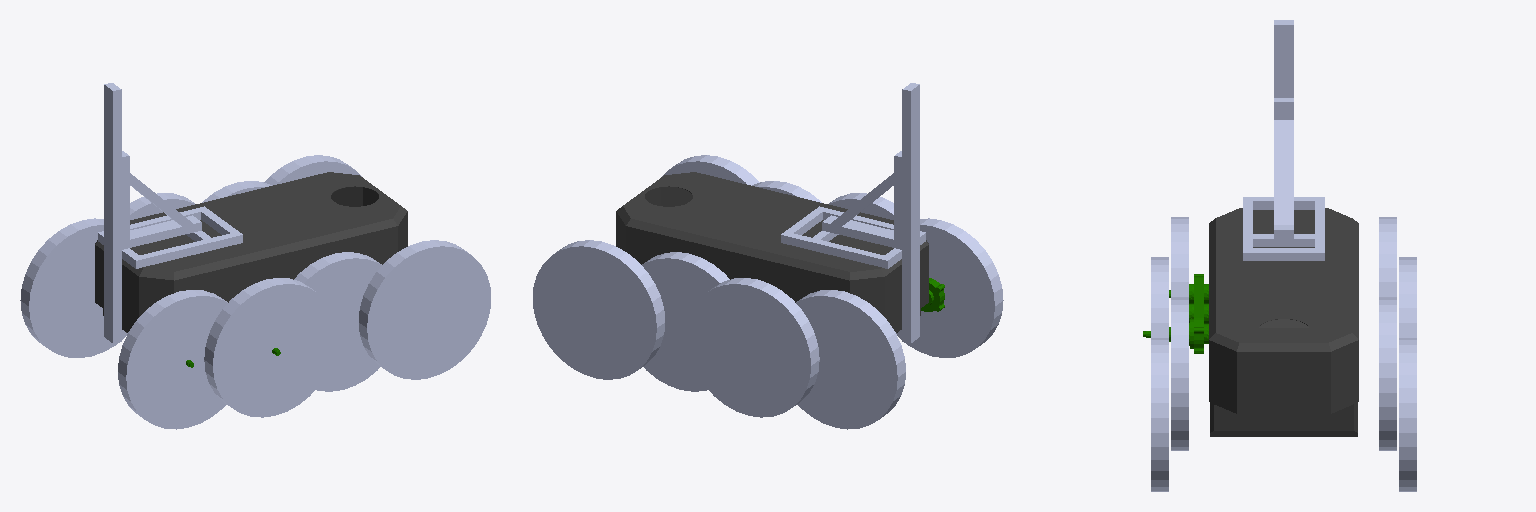
URDF robot description (asm_car_asm):
<?xml version="1.0" encoding="utf-8"?>
<!-- This URDF was automatically created by SolidWorks to URDF Exporter! Originally created by [author] ([email redacted]) 
     Commit Version: 1.5.1-0-g916b5db  Build Version: 1.5.7152.31018
     For more information, please see http://wiki.ros.org/sw_urdf_exporter -->
<robot
  name="asm_car_asm">
    <link name="base_footprint">
        <visual>
            <geometry>
                    <box size="0.001 0.001 0.001"/>
                </geometry>
            <origin rpy="0 0 0" xyz="0 0 0"/>
        </visual>
    </link>
    <joint name="base_footprint_joint" type="fixed">
        <origin xyz="0 0 0" />
        <parent link="base_footprint" />
        <child link="base_link" />
    </joint>
  <link
    name="base_link">
    <inertial>
      <origin
        xyz="1.049196782881E-15 -1.51734255681251E-15 -0.111330753346375"
        rpy="0 0 0" />
      <mass
        value="0.826691190957249" />
      <inertia
        ixx="0.0249975874157002"
        ixy="-7.52271136280225E-17"
        ixz="2.82864435855665E-17"
        iyy="0.0768556941113596"
        iyz="6.0659568181077E-17"
        izz="0.0969436158700248" />
    </inertial>
    <visual>
      <origin
        xyz="0 0 0"
        rpy="0 0 0" />
      <geometry>
        <mesh
          filename="package://asm_car_asm/meshes/base_link.STL" />
      </geometry>
      <material
        name="">
        <color
          rgba="0.313725490196078 0.313725490196078 0.313725490196078 1" />
      </material>
    </visual>
    <collision>
      <origin
        xyz="0 0 0"
        rpy="0 0 0" />
      <geometry>
        <mesh
          filename="package://asm_car_asm/meshes/base_link.STL" />
      </geometry>
    </collision>
  </link>
  <link
    name="body">
    <inertial>
      <origin
        xyz="0.00748877624058336 -1.40564993411333E-15 0.126875504146603"
        rpy="0 0 0" />
      <mass
        value="1.00302107294553" />
      <inertia
        ixx="0.0353961113249428"
        ixy="-5.66459128650649E-17"
        ixz="-0.000522977464601806"
        iyy="0.110631619010978"
        iyz="1.21496766163631E-17"
        izz="0.134718731941543" />
    </inertial>
    <visual>
      <origin
        xyz="0 0 0"
        rpy="0 0 0" />
      <geometry>
        <mesh
          filename="package://asm_car_asm/meshes/body.STL" />
      </geometry>
      <material
        name="">
        <color
          rgba="0.313725490196078 0.313725490196078 0.313725490196078 1" />
      </material>
    </visual>
    <collision>
      <origin
        xyz="0 0 0"
        rpy="0 0 0" />
      <geometry>
        <mesh
          filename="package://asm_car_asm/meshes/body.STL" />
      </geometry>
    </collision>
  </link>
  <joint
    name="body_joint"
    type="fixed">
    <origin
      xyz="0 0 0"
      rpy="0 0 3.1416" />
    <parent
      link="base_link" />
    <child
      link="body" />
    <axis
      xyz="0 0 0" />
  </joint>
  <link
    name="rack_Link">
    <inertial>
      <origin
        xyz="-1.79969614716557E-11 0.140184473428739 0.1757564007541"
        rpy="0 0 0" />
      <mass
        value="6.56017677903339" />
      <inertia
        ixx="0.170168272052352"
        ixy="-2.67547151839763E-12"
        ixz="-5.81828697036444E-12"
        iyy="0.147109365957286"
        iyz="0.00776074128079464"
        izz="0.0522121702201837" />
    </inertial>
    <visual>
      <origin
        xyz="0 0 0"
        rpy="0 0 0" />
      <geometry>
        <mesh
          filename="package://asm_car_asm/meshes/rack_Link.STL" />
      </geometry>
      <material
        name="">
        <color
          rgba="0.792156862745098 0.819607843137255 0.933333333333333 1" />
      </material>
    </visual>
    <collision>
      <origin
        xyz="0 0 0"
        rpy="0 0 0" />
      <geometry>
        <mesh
          filename="package://asm_car_asm/meshes/rack_Link.STL" />
      </geometry>
    </collision>
  </link>
  <joint
    name="rack_joint"
    type="fixed">
    <origin
      xyz="0.502 0 0.226"
      rpy="0 0 1.5708" />
    <parent
      link="body" />
    <child
      link="rack_Link" />
    <axis
      xyz="0 0 0" />
  </joint>
  <link
    name="FrontLeft_Link">
    <inertial>
      <origin
        xyz="-0.0162620694026895 0 -0.0208244147590206"
        rpy="0 0 0" />
      <mass
        value="1.79218615150526" />
      <inertia
        ixx="0.00265370284480665"
        ixy="-1.82350288041465E-19"
        ixz="-0.00144065197407825"
        iyy="0.0257376544776968"
        iyz="-9.25715958430322E-21"
        izz="0.0257584221294946" />
    </inertial>
    <visual>
      <origin
        xyz="0 0 0"
        rpy="0 0 0" />
      <geometry>
        <mesh
          filename="package://asm_car_asm/meshes/FrontLeft_Link.STL" />
      </geometry>
      <material
        name="">
        <color
          rgba="0.149019607843137 0.517647058823529 0 1" />
      </material>
    </visual>
    <collision>
      <origin
        xyz="0 0 0"
        rpy="0 0 0" />
      <geometry>
        <mesh
          filename="package://asm_car_asm/meshes/FrontLeft_Link.STL" />
      </geometry>
    </collision>
  </link>
  <joint
    name="FrontLeftJoint"
    type="revolute">
    <origin
      xyz="0.288 0.245 -0.066"
      rpy="-1.5708 0 3.1416" />
    <parent
      link="base_link" />
    <child
      link="FrontLeft_Link" />
    <axis
      xyz="0 0 1" />
	  <limit lower="0.0"
         upper="1.0"
         effort="10.0"
         velocity="5.0" />
<dynamics damping="5.0" friction="1.0"/>
  <!-- Soft limits -->
  <safety_controller k_position="0.8"
                     k_velocity="10"
                     soft_lower_limit="0.1"
                     soft_upper_limit="0.9" />
  </joint>
  <link
    name="FrontLeftWheel1">
    <inertial>
      <origin
        xyz="1.81663042386759E-08 4.16008616443975E-11 -5.16786613502518E-12"
        rpy="0 0 0" />
      <mass
        value="2.99405359774556" />
      <inertia
        ixx="0.125658758012625"
        ixy="-2.01511313553579E-10"
        ixz="1.2530514361123E-11"
        iyy="0.0635377250884112"
        iyz="2.93950370238922E-10"
        izz="0.0635377250888026" />
    </inertial>
    <visual>
      <origin
        xyz="0 0 0"
        rpy="0 1.5708 0" />
      <geometry>
	<cylinder length="0.055" radius="0.2325" />
      </geometry>
      <material
        name="">
        <color
          rgba="0.792156862745098 0.819607843137255 0.933333333333333 1" />
      </material>
    </visual>
    <collision>
     <origin
        xyz="0 0 0"
        rpy="0 1.5708 0" />
      <geometry>
	<cylinder length="0.055" radius="0.2325" />
      </geometry>
    </collision>
  </link>
  <joint
    name="FrontLeftJoint1"
    type="continuous">
    <origin
      xyz="-0.144 0 -0.1305"
      rpy="3.1416 1.5708 0" />
    <parent
      link="FrontLeft_Link" />
    <child
      link="FrontLeftWheel1" />
    <axis
      xyz="1 0 0" />
  </joint>
  <link
    name="FrontLeftWheel2">
    <inertial>
      <origin
        xyz="1.81663042386759E-08 4.1601042055639E-11 -5.16764409042025E-12"
        rpy="0 0 0" />
      <mass
        value="2.99405359774556" />
      <inertia
        ixx="0.125658758012625"
        ixy="-2.01511310493956E-10"
        ixz="1.25305206703153E-11"
        iyy="0.0635377250884112"
        iyz="2.9395036587968E-10"
        izz="0.0635377250888023" />
    </inertial>
    <visual>
      <origin
        xyz="0 0 0"
        rpy="0 1.5708 0" />
      <geometry>
	<cylinder length="0.055" radius="0.2325" />
      </geometry>
      <material
        name="">
        <color
          rgba="0.792156862745098 0.819607843137255 0.933333333333333 1" />
      </material>
    </visual>
    <collision>
      <origin
        xyz="0 0 0"
        rpy="0 1.5708 0" />
      <geometry>
	<cylinder length="0.055" radius="0.2325" />
      </geometry>
    </collision>
  </link>
  <joint
    name="FrontLeftJoint2"
    type="continuous">
    <origin
      xyz="0.144 0 -0.0695"
      rpy="3.1416 1.5708 0" />
    <parent
      link="FrontLeft_Link" />
    <child
      link="FrontLeftWheel2" />
    <axis
      xyz="1 0 0" />
  </joint>
  <link
    name="FrontRightLink">
    <inertial>
      <origin
        xyz="-0.0162620694026895 0 -0.0208244147590206"
        rpy="0 0 0" />
      <mass
        value="1.79218615150526" />
      <inertia
        ixx="0.00265370284480666"
        ixy="-3.74712782633937E-19"
        ixz="-0.00144065197407825"
        iyy="0.0257376544776969"
        iyz="3.55274614255389E-19"
        izz="0.0257584221294946" />
    </inertial>
    <visual>
      <origin
        xyz="0 0 0"
        rpy="0 0 0" />
      <geometry>
        <mesh
          filename="package://asm_car_asm/meshes/FrontRightLink.STL" />
      </geometry>
      <material
        name="">
        <color
          rgba="0.149019607843137 0.517647058823529 0 1" />
      </material>
    </visual>
    <collision>
      <origin
        xyz="0 0 0"
        rpy="0 0 0" />
      <geometry>
        <mesh
          filename="package://asm_car_asm/meshes/FrontRightLink.STL" />
      </geometry>
    </collision>
  </link>
  <joint
    name="FrontRightJoint"
    type="revolute">
    <origin
      xyz="0.288 -0.245 -0.066"
      rpy="1.5707963267949 0 3.14159265358979" />
    <parent
      link="base_link" />
    <child
      link="FrontRightLink" />
        <axis
      xyz="0 0 1" />
	  <limit lower="0.0"
         upper="1.0"
         effort="10.0"
         velocity="5.0" />
<dynamics damping="5.0" friction="1.0"/>
  <!-- Soft limits -->
  <safety_controller k_position="0.8"
                     k_velocity="10"
                     soft_lower_limit="0.1"
                     soft_upper_limit="0.9" />
  </joint>
  <link
    name="FrontRightWheel1">
    <inertial>
      <origin
        xyz="1.81663041831648E-08 -4.16008616443975E-11 5.16786613502518E-12"
        rpy="0 0 0" />
      <mass
        value="2.99405359774556" />
      <inertia
        ixx="0.125658758012625"
        ixy="2.01511299412951E-10"
        ixz="-1.25305170682696E-11"
        iyy="0.0635377250884111"
        iyz="2.9395040736196E-10"
        izz="0.0635377250888023" />
    </inertial>
    <visual>
      <origin
        xyz="0 0 0"
        rpy="0 1.5708 0" />
      <geometry>
	<cylinder length="0.055" radius="0.2325" />
      </geometry>
      <material
        name="">
        <color
          rgba="0.792156862745098 0.819607843137255 0.933333333333333 1" />
      </material>
    </visual>
    <collision>
      <origin
        xyz="0 0 0"
        rpy="0 1.5708 0" />
      <geometry>
	<cylinder length="0.055" radius="0.2325" />
      </geometry>
    </collision>
  </link>
  <joint
    name="FrontRightJoint1"
    type="continuous">
    <origin
      xyz="-0.144 0 -0.1305"
      rpy="0 1.5708 0" />
    <parent
      link="FrontRightLink" />
    <child
      link="FrontRightWheel1" />
    <axis
      xyz="1 0 0" />
  </joint>
  <link
    name="FrontRightWheel2">
    <inertial>
      <origin
        xyz="1.81663042941871E-08 -4.16010004222755E-11 5.16781062387395E-12"
        rpy="0 0 0" />
      <mass
        value="2.99405359774555" />
      <inertia
        ixx="0.125658758012625"
        ixy="2.01511305900651E-10"
        ixz="-1.25305184086115E-11"
        iyy="0.0635377250884111"
        iyz="2.93950405009459E-10"
        izz="0.0635377250888022" />
    </inertial>
    <visual>
      <origin
        xyz="0 0 0"
        rpy="0 1.5708 0" />
      <geometry>
	<cylinder length="0.055" radius="0.2325" />
      </geometry>
      <material
        name="">
        <color
          rgba="0.792156862745098 0.819607843137255 0.933333333333333 1" />
      </material>
    </visual>
    <collision>
      <origin
        xyz="0 0 0"
        rpy="0 1.5708 0" />
      <geometry>
	<cylinder length="0.055" radius="0.2325" />
      </geometry>
    </collision>
  </link>
  <joint
    name="FrontRightJoint2"
    type="continuous">
    <origin
      xyz="0.144 0 -0.0695"
      rpy="0 1.5708 0" />
    <parent
      link="FrontRightLink" />
    <child
      link="FrontRightWheel2" />
    <axis
      xyz="1 0 0" />
  </joint>
  <link
    name="BackRightLink">
    <inertial>
      <origin
        xyz="-0.0162620694026895 0 -0.0208244147590207"
        rpy="0 0 0" />
      <mass
        value="1.79218615150526" />
      <inertia
        ixx="0.00265370284480667"
        ixy="-5.70386703967181E-19"
        ixz="-0.00144065197407825"
        iyy="0.0257376544776968"
        iyz="1.19797750715368E-19"
        izz="0.0257584221294946" />
    </inertial>
    <visual>
      <origin
        xyz="0 0 0"
        rpy="0 0 0" />
      <geometry>
        <mesh
          filename="package://asm_car_asm/meshes/BackRightLink.STL" />
      </geometry>
      <material
        name="">
        <color
          rgba="0.149019607843137 0.517647058823529 0 1" />
      </material>
    </visual>
    <collision>
      <origin
        xyz="0 0 0"
        rpy="0 0 0" />
      <geometry>
        <mesh
          filename="package://asm_car_asm/meshes/BackRightLink.STL" />
      </geometry>
    </collision>
  </link>
  <joint
    name="BackRightJoint"
    type="revolute">
    <origin
      xyz="-0.288 -0.245 -0.066"
      rpy="1.5707963267949 0 3.14159265358979" />
    <parent
      link="base_link" />
    <child
      link="BackRightLink" />
        <axis
      xyz="0 0 1" />
	  <limit lower="0.0"
         upper="1.0"
         effort="10.0"
         velocity="5.0" />
<dynamics damping="5.0" friction="1.0"/>
  <!-- Soft limits -->
  <safety_controller k_position="0.8"
                     k_velocity="10"
                     soft_lower_limit="0.1"
                     soft_upper_limit="0.9" />
  </joint>
  <link
    name="BackRightWheel1">
    <inertial>
      <origin
        xyz="1.81663042386759E-08 -4.16009726666999E-11 5.16769960157148E-12"
        rpy="0 0 0" />
      <mass
        value="2.99405359774556" />
      <inertia
        ixx="0.125658758012625"
        ixy="2.0151130103845E-10"
        ixz="-1.25305176970732E-11"
        iyy="0.0635377250884111"
        iyz="2.93950427391312E-10"
        izz="0.0635377250888023" />
    </inertial>
    <visual>
      <origin
        xyz="0 0 0"
        rpy="0 1.5708 0" />
      <geometry>
	<cylinder length="0.055" radius="0.2325" />
      </geometry>
      <material
        name="">
        <color
          rgba="0.792156862745098 0.819607843137255 0.933333333333333 1" />
      </material>
    </visual>
    <collision>
      <origin
        xyz="0 0 0"
        rpy="0 1.5708 0" />
      <geometry>
	<cylinder length="0.055" radius="0.2325" />
      </geometry>
    </collision>
  </link>
  <joint
    name="BackRightJoint1"
    type="continuous">
    <origin
      xyz="0.144 0 -0.0695"
      rpy="0 1.5708 0" />
    <parent
      link="BackRightLink" />
    <child
      link="BackRightWheel1" />
    <axis
      xyz="1 0 0" />
  </joint>
  <link
    name="BackRightWheel2">
    <inertial>
      <origin
        xyz="1.81663041831648E-08 -4.16009449111243E-11 5.16756082369341E-12"
        rpy="0 0 0" />
      <mass
        value="2.99405359774556" />
      <inertia
        ixx="0.125658758012625"
        ixy="2.01511303939349E-10"
        ixz="-1.25305217685236E-11"
        iyy="0.0635377250884112"
        iyz="2.93950344762586E-10"
        izz="0.0635377250888024" />
    </inertial>
    <visual>
      <origin
        xyz="0 0 0"
        rpy="0 1.5708 0" />
      <geometry>
	<cylinder length="0.055" radius="0.2325" />
      </geometry>
      <material
        name="">
        <color
          rgba="0.792156862745098 0.819607843137255 0.933333333333333 1" />
      </material>
    </visual>
    <collision>
      <origin
        xyz="0 0 0"
        rpy="0 1.5708 0" />
      <geometry>
	<cylinder length="0.055" radius="0.2325" />
      </geometry>
    </collision>
  </link>
  <joint
    name="BackRightJoint2"
    type="continuous">
    <origin
      xyz="-0.144 0 -0.1305"
      rpy="0 1.5707963267949 0" />
    <parent
      link="BackRightLink" />
    <child
      link="BackRightWheel2" />
    <axis
      xyz="1 0 0" />
  </joint>
  <link
    name="BackLeftLink">
    <inertial>
      <origin
        xyz="-0.0162620694026895 0 -0.0208244147590206"
        rpy="0 0 0" />
      <mass
        value="1.79218615150526" />
      <inertia
        ixx="0.00265370284480667"
        ixy="-3.67474297666951E-19"
        ixz="-0.00144065197407825"
        iyy="0.0257376544776968"
        iyz="-4.77872464621038E-20"
        izz="0.0257584221294946" />
    </inertial>
    <visual>
      <origin
        xyz="0 0 0"
        rpy="0 0 0" />
      <geometry>
        <mesh
          filename="package://asm_car_asm/meshes/BackLeftLink.STL" />
      </geometry>
      <material
        name="">
        <color
          rgba="0.149019607843137 0.517647058823529 0 1" />
      </material>
    </visual>
    <collision>
      <origin
        xyz="0 0 0"
        rpy="0 0 0" />
      <geometry>
        <mesh
          filename="package://asm_car_asm/meshes/BackLeftLink.STL" />
      </geometry>
    </collision>
  </link>
  <joint
    name="BackLeftJoint"
    type="revolute">
    <origin
      xyz="-0.288 0.245 -0.066"
      rpy="-1.5707963267949 0 3.14159265358979" />
    <parent
      link="base_link" />
    <child
      link="BackLeftLink" />
        <axis
      xyz="0 0 1" />
	  <limit lower="0.0"
         upper="1.0"
         effort="10.0"
         velocity="5.0" />
<dynamics damping="5.0" friction="1.0"/>
  <!-- Soft limits -->
  <safety_controller k_position="0.8"
                     k_velocity="10"
                     soft_lower_limit="0.1"
                     soft_upper_limit="0.9" />
  </joint>
  <link
    name="BackLeftWheel1">
    <inertial>
      <origin
        xyz="1.81663042386759E-08 4.16006534775804E-11 -5.16764409042025E-12"
        rpy="0 0 0" />
      <mass
        value="2.99405359774556" />
      <inertia
        ixx="0.125658758012625"
        ixy="-2.01511301505588E-10"
        ixz="1.25305158858522E-11"
        iyy="0.0635377250884111"
        iyz="2.93950405965679E-10"
        izz="0.0635377250888024" />
    </inertial>
    <visual>
      <origin
        xyz="0 0 0"
        rpy="0 1.5708 0" />
      <geometry>
	<cylinder length="0.055" radius="0.2325" />
      </geometry>
      <material
        name="">
        <color
          rgba="0.792156862745098 0.819607843137255 0.933333333333333 1" />
      </material>
    </visual>
    <collision>
      <origin
        xyz="0 0 0"
        rpy="0 1.5708 0" />
      <geometry>
	<cylinder length="0.055" radius="0.2325" />
      </geometry>
    </collision>
  </link>
  <joint
    name="BackLeftJoint1"
    type="continuous">
    <origin
      xyz="0.144 0 -0.0695"
      rpy="3.1416 1.5708 0" />
    <parent
      link="BackLeftLink" />
    <child
      link="BackLeftWheel1" />
    <axis
      xyz="1 0 0" />
  </joint>
  <link
    name="BackLeftWheel2">
    <inertial>
      <origin
        xyz="1.81663042386759E-08 4.16010698112146E-11 -5.16789389060079E-12"
        rpy="0 0 0" />
      <mass
        value="2.99405359774556" />
      <inertia
        ixx="0.125658758012626"
        ixy="-2.01511304261986E-10"
        ixz="1.25305150788844E-11"
        iyy="0.0635377250884114"
        iyz="2.93950421854165E-10"
        izz="0.0635377250888025" />
    </inertial>
    <visual>
     <origin
        xyz="0 0 0"
        rpy="0 1.5708 0" />
      <geometry>
	<cylinder length="0.055" radius="0.2325" />
      </geometry>
      <material
        name="">
        <color
          rgba="0.792156862745098 0.819607843137255 0.933333333333333 1" />
      </material>
    </visual>
    <collision>
      <origin
        xyz="0 0 0"
        rpy="0 1.5708 0" />
      <geometry>
	<cylinder length="0.055" radius="0.2325" />
      </geometry>
    </collision>
  </link>
  <joint
    name="BackLeftJoint2"
    type="continuous">
    <origin
      xyz="-0.144 0 -0.1305"
      rpy="3.14159265358979 1.5707963267949 0" />
    <parent
      link="BackLeftLink" />
    <child
      link="BackLeftWheel2" />
    <axis
      xyz="1 0 0" />
  </joint>
</robot>

--- What the picture shows (computed from the rendered views, not written in the file) ---
The picture shows the robot from 3 angles, left to right: view 1: azimuth 30°, elevation 25°; view 2: azimuth 150°, elevation 25°; view 3: azimuth 270°, elevation 25°; orthographic projection.
Model asm_car_asm with 16 links and 15 joints (4 revolute, 8 continuous, 3 fixed), rooted at base_footprint, posed every joint at zero.
Visible links, largest first — view 1: body, FrontRightWheel1, BackRightWheel2, BackRightWheel1, rack_Link, BackLeftWheel1, FrontRightWheel2, FrontLeftWheel1, BackLeftWheel2, FrontLeftWheel2; view 2: body, BackLeftWheel2, FrontLeftWheel1, BackLeftWheel1, rack_Link, BackRightWheel1, FrontLeftWheel2, FrontRightWheel1, BackRightWheel2, FrontRightWheel2; view 3: body, rack_Link, base_link, FrontLeftWheel1, FrontRightWheel1, FrontLeftWheel2, FrontRightWheel2, BackRightLink, BackRightWheel1, BackRightWheel2, BackLeftWheel1, BackLeftWheel2.
Link boxes in pixels (<box>): body: <box>95,172,407,327</box>; FrontRightWheel1: <box>359,240,490,379</box>; BackRightWheel2: <box>204,278,336,417</box>; BackRightWheel1: <box>118,290,227,429</box>; rack_Link: <box>98,83,242,343</box>; BackLeftWheel1: <box>20,218,127,357</box>; FrontRightWheel2: <box>294,252,381,391</box>; FrontLeftWheel1: <box>264,155,361,185</box>; BackLeftWheel2: <box>130,193,194,219</box>; FrontLeftWheel2: <box>202,181,271,202</box>; body: <box>616,172,928,327</box>; BackLeftWheel2: <box>687,278,819,417</box>; FrontLeftWheel1: <box>533,240,664,379</box>; BackLeftWheel1: <box>796,290,905,429</box>; rack_Link: <box>781,83,925,343</box>; BackRightWheel1: <box>896,218,1003,357</box>; FrontLeftWheel2: <box>642,252,729,391</box>; FrontRightWheel1: <box>662,155,759,185</box>; BackRightWheel2: <box>829,193,893,219</box>; FrontRightWheel2: <box>752,181,821,202</box>; body: <box>1209,208,1358,413</box>; rack_Link: <box>1243,20,1324,260</box>; base_link: <box>1210,319,1357,436</box>; FrontLeftWheel1: <box>1399,338,1416,491</box>; FrontRightWheel1: <box>1151,338,1168,491</box>; FrontLeftWheel2: <box>1379,298,1396,450</box>; FrontRightWheel2: <box>1171,298,1188,450</box>; BackRightLink: <box>1143,274,1208,353</box>; BackRightWheel1: <box>1171,217,1188,297</box>; BackRightWheel2: <box>1151,257,1168,337</box>; BackLeftWheel1: <box>1379,217,1396,297</box>; BackLeftWheel2: <box>1399,257,1416,337</box>.
Size in the robot's own frame: 1.33 by 0.83 by 1.1 metres.
Meshes: 7 distinct files referenced, 4 mesh visuals loaded (4 binary STL); not drawn: 3 (reference not matched to a file when rendering).
